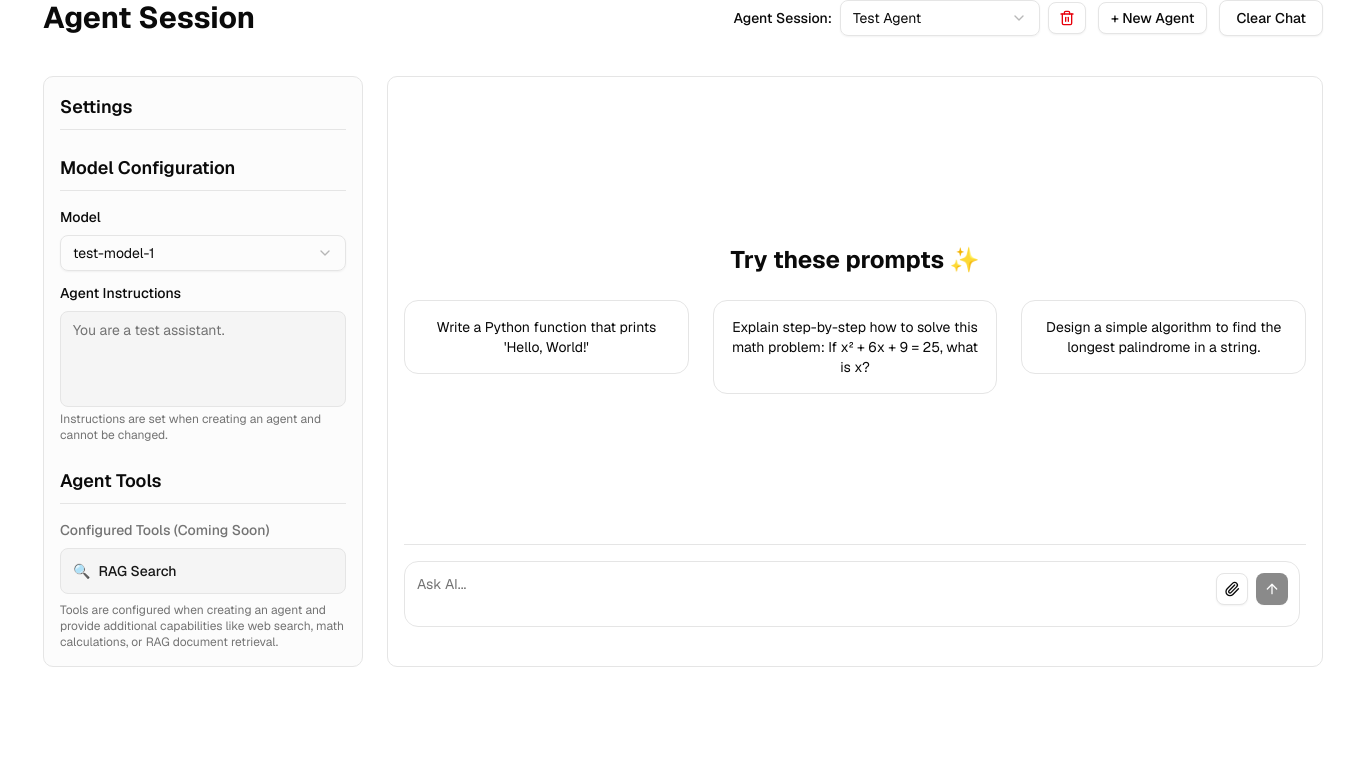
Test case: ChatPlaygroundPage › Agent Creation Modal › creates agent when Create Agent is clicked
Step 1. Click the button "+ New Agent" → (1153, 18), box [1098,2,1207,34]
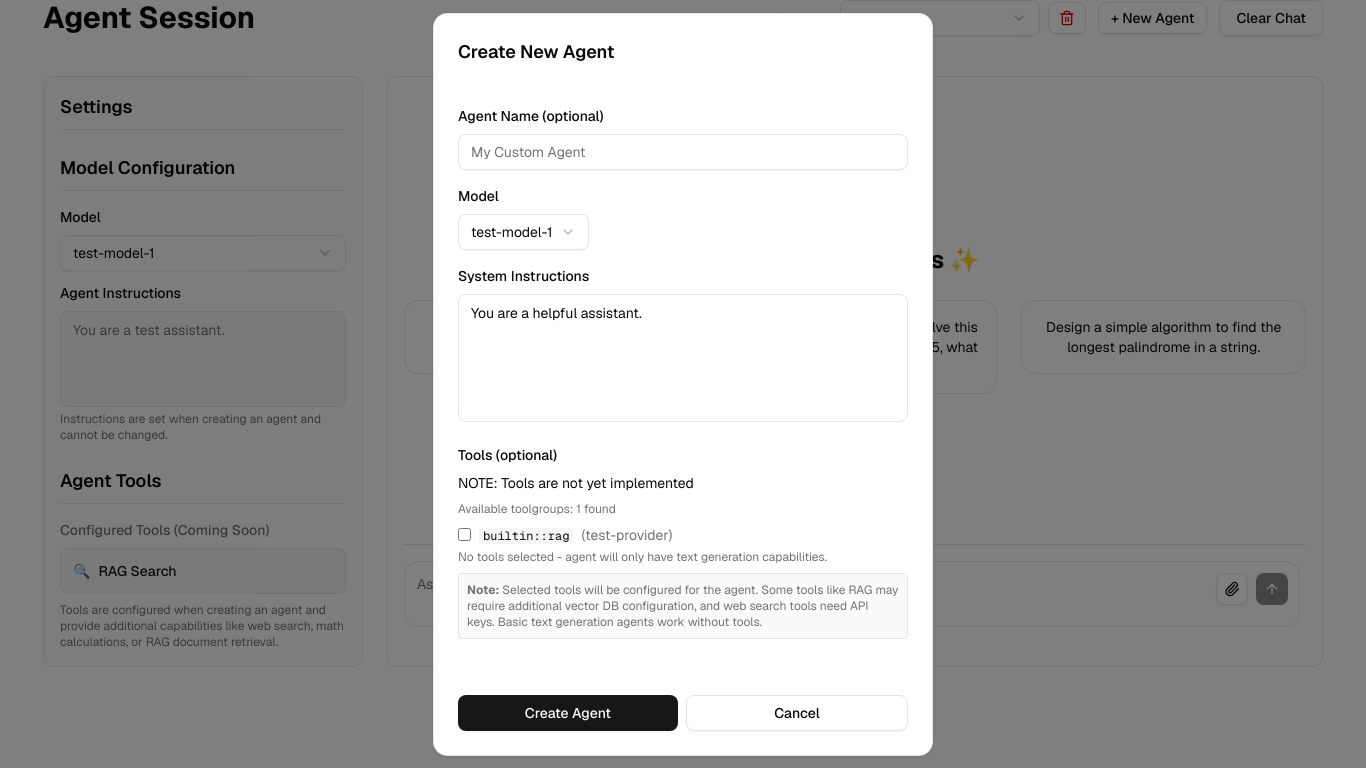
expect the heading "Create New Agent" is shown: met, box [458,40,614,62]
Step 2. Type "Test Agent Name" into the field with placeholder "My Custom Agent" → (683, 152), box [458,134,908,170]
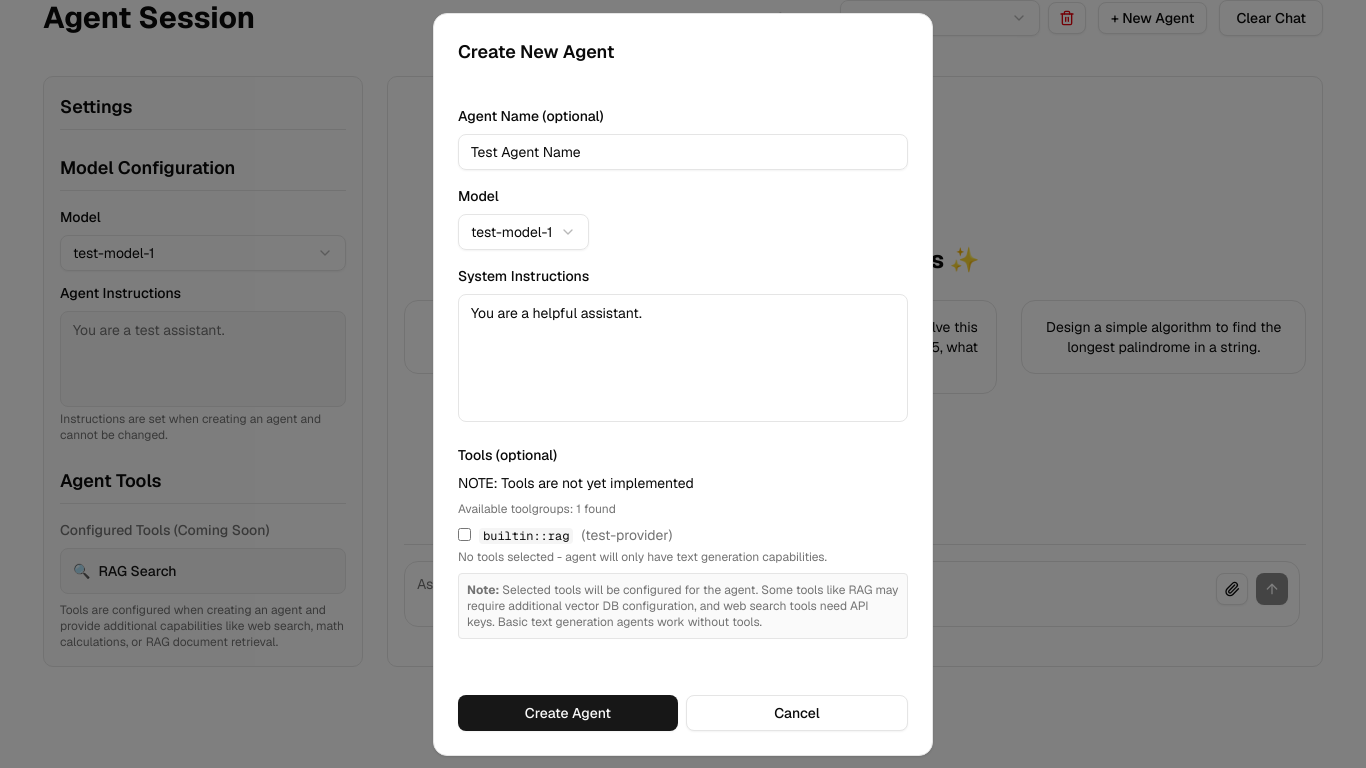
Step 3. Type "Custom instructions" into the text box showing "You are a helpful assistant." → (683, 358), box [458,294,908,422]
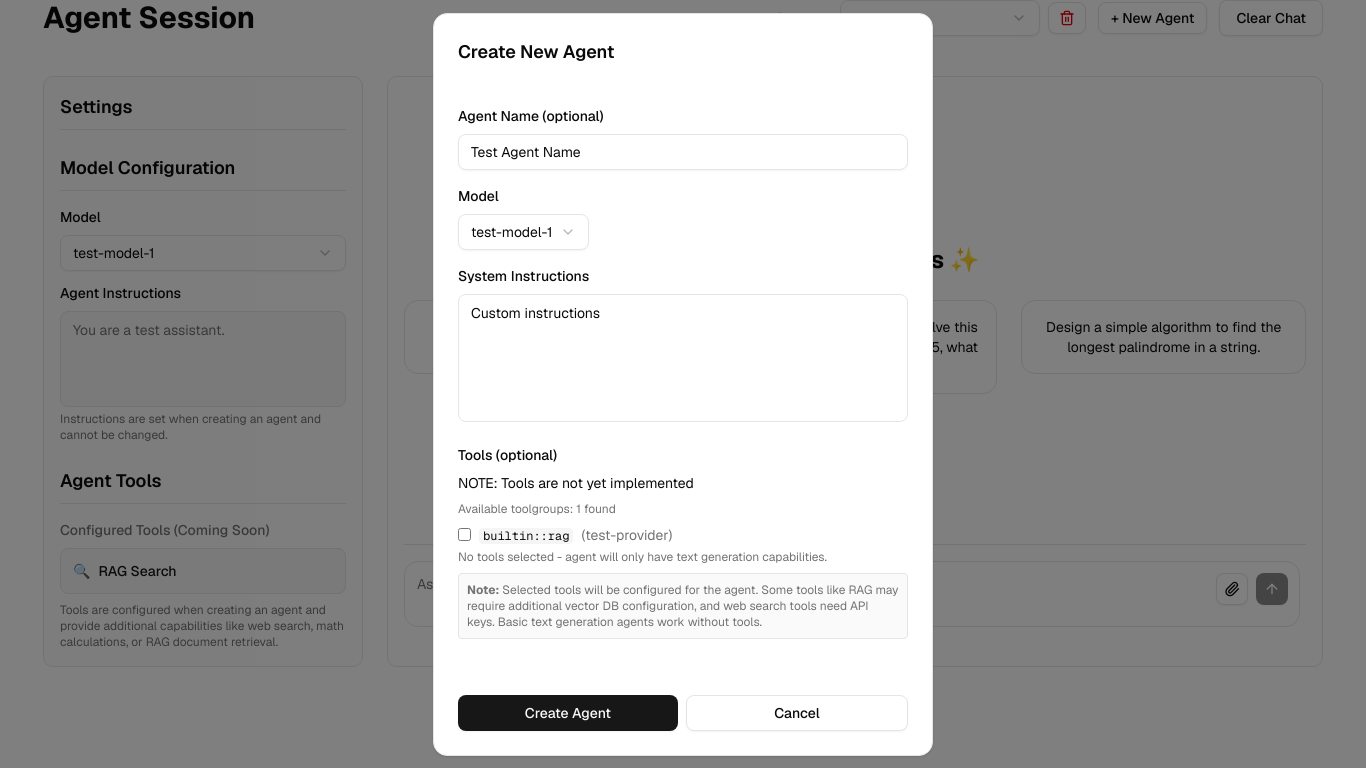
Step 4. Click the dropdown → (524, 232), box [458,214,590,250]
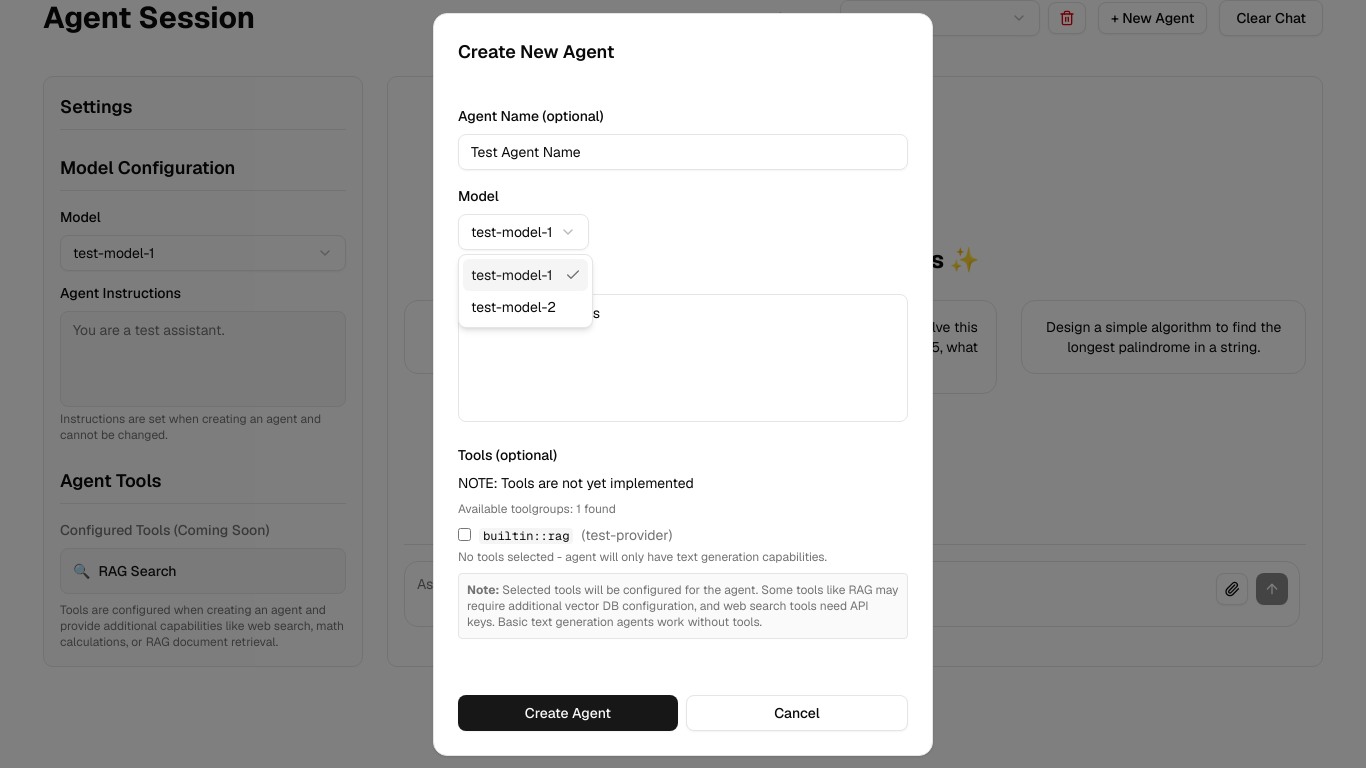
expect the text "test-model-1" below "Model Configuration" is shown: met, box [73,244,154,262]
Step 5. Click the option "test-model-1" → (526, 275), box [463,259,588,291]
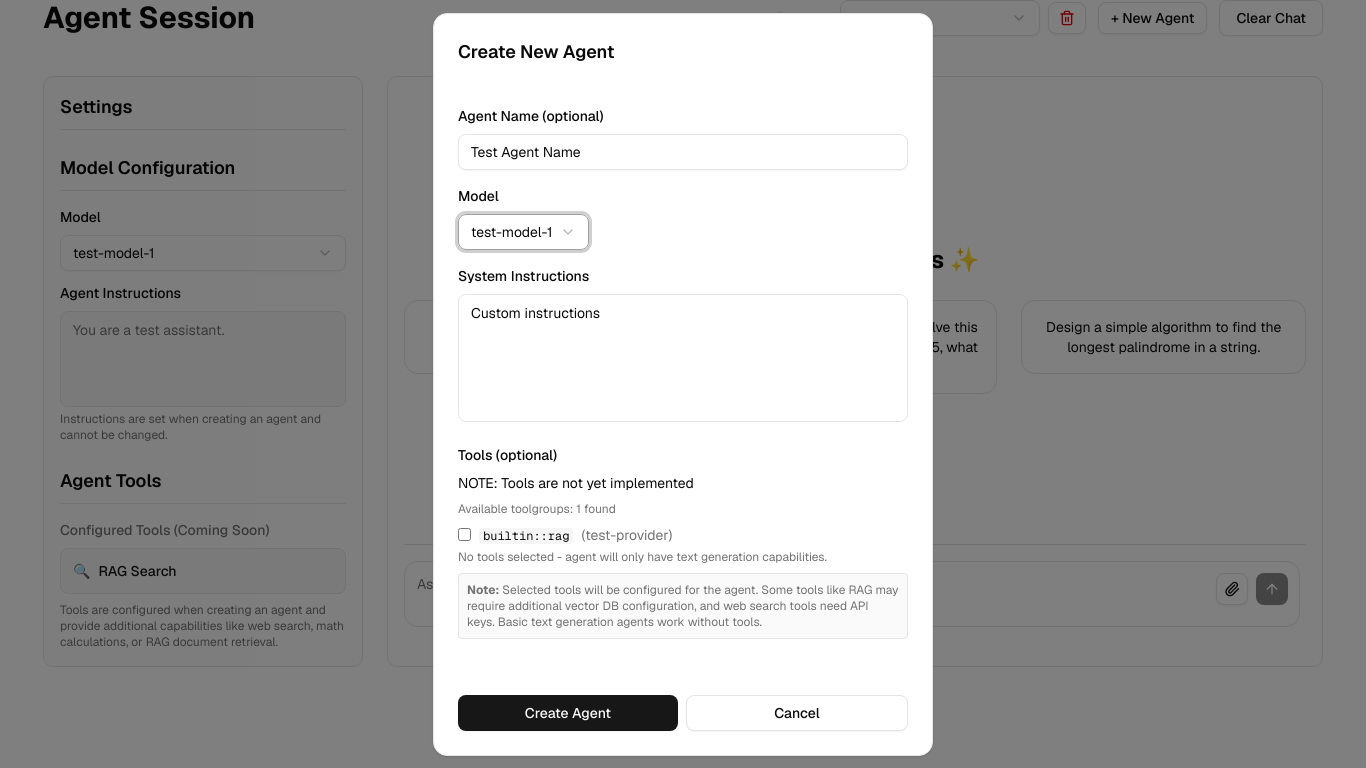
expect the button "Create Agent" is enabled: met
Step 6. Click the button "Create Agent" → (568, 712), box [458,694,678,730]
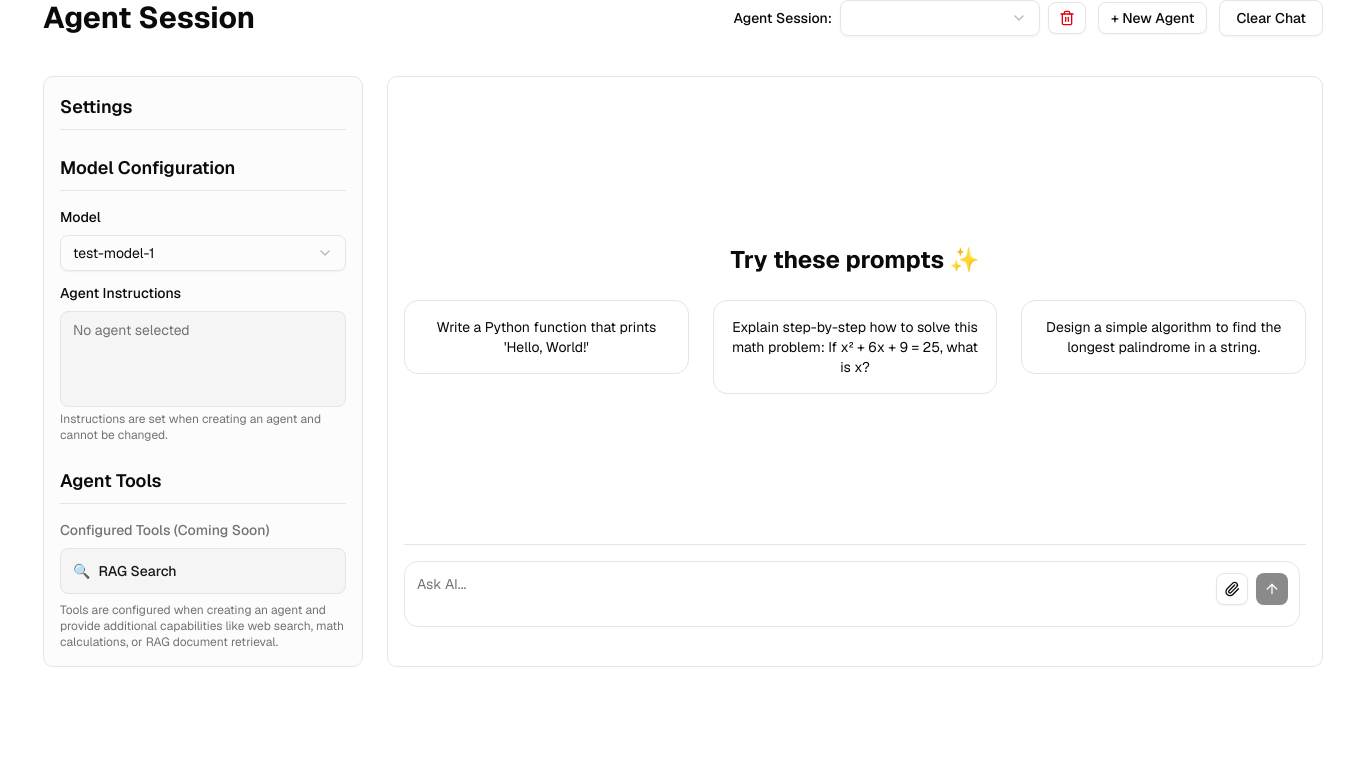
expect the heading "Create New Agent" is gone: met
